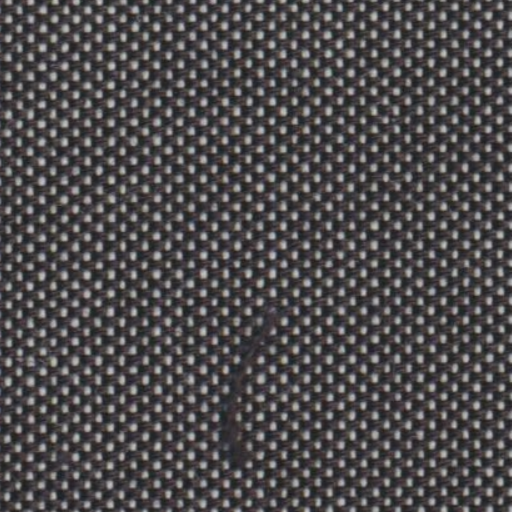DuanSha: (216, 292, 297, 478)
